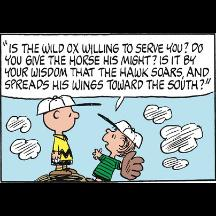charlie: (37, 96, 80, 176)
